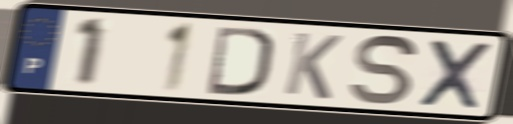1: (161, 20, 201, 97), (72, 16, 107, 89)
D: (205, 23, 275, 98)
K: (280, 29, 345, 103)
S: (348, 32, 421, 109)
X: (415, 37, 495, 113)
